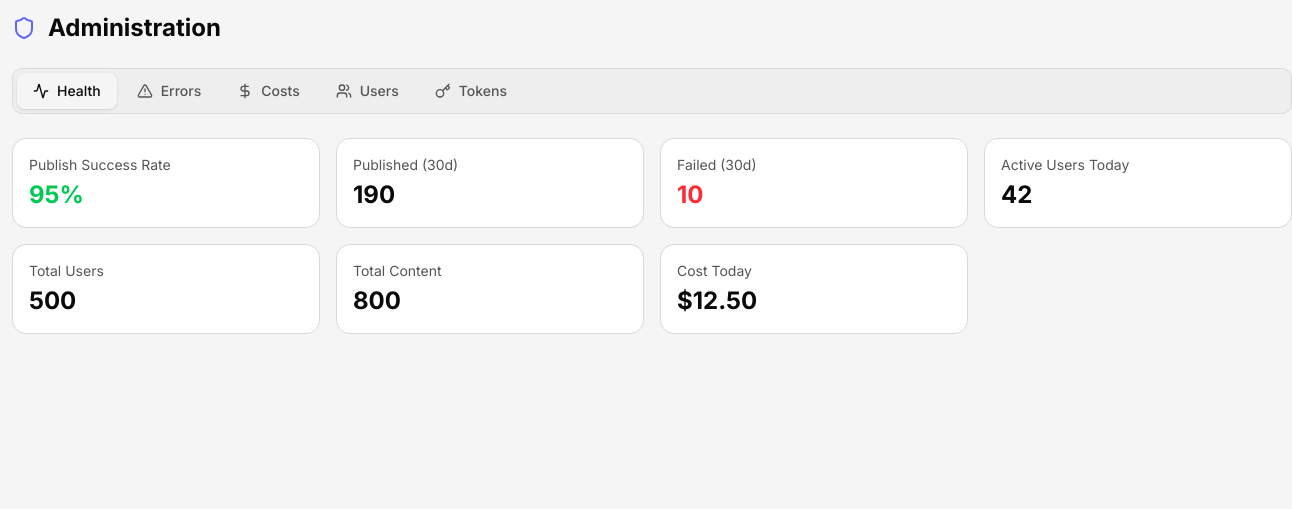
it: AdminPage › renders Costs tab with cost data
The image size is (1292, 509).
Check: the text "Publish Success Rate" is shown, box x1=29 y1=156 x2=171 y2=173
Click the button "Costs" at (269, 91), box x1=221 y1=73 x2=316 y2=109
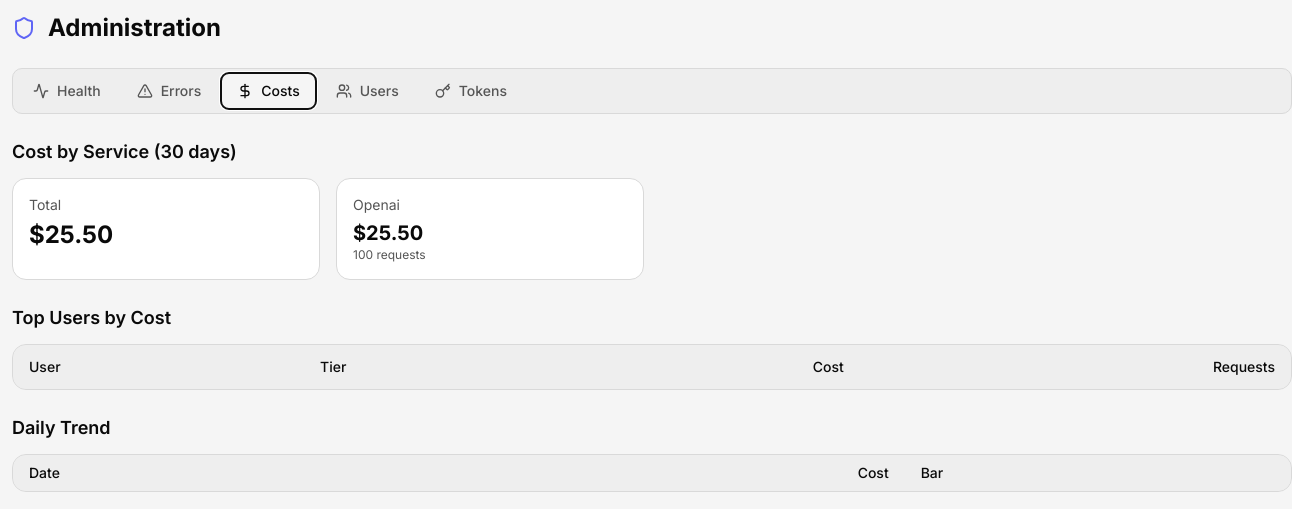
Check: the heading "Cost by Service (30 days)" is shown, box x1=12 y1=141 x2=237 y2=162
Check: the text "openai" is shown, box x1=353 y1=196 x2=400 y2=213
Check: the heading "Top Users by Cost" is shown, box x1=12 y1=307 x2=171 y2=328
